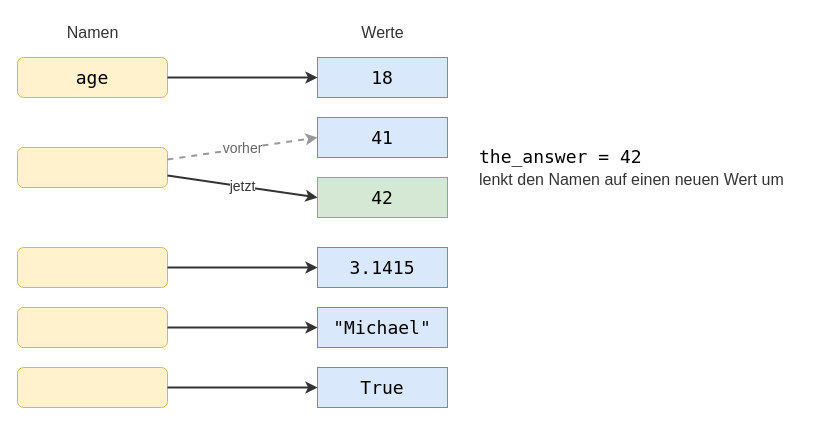
Image size: 835x425. Some labels were removed from this diagram. Each missing label, with the box of its shape:
is_valid: (16, 366, 168, 408)
name: (16, 306, 168, 348)
simple_pi: (16, 246, 168, 288)
the_answer: (16, 146, 168, 188)
